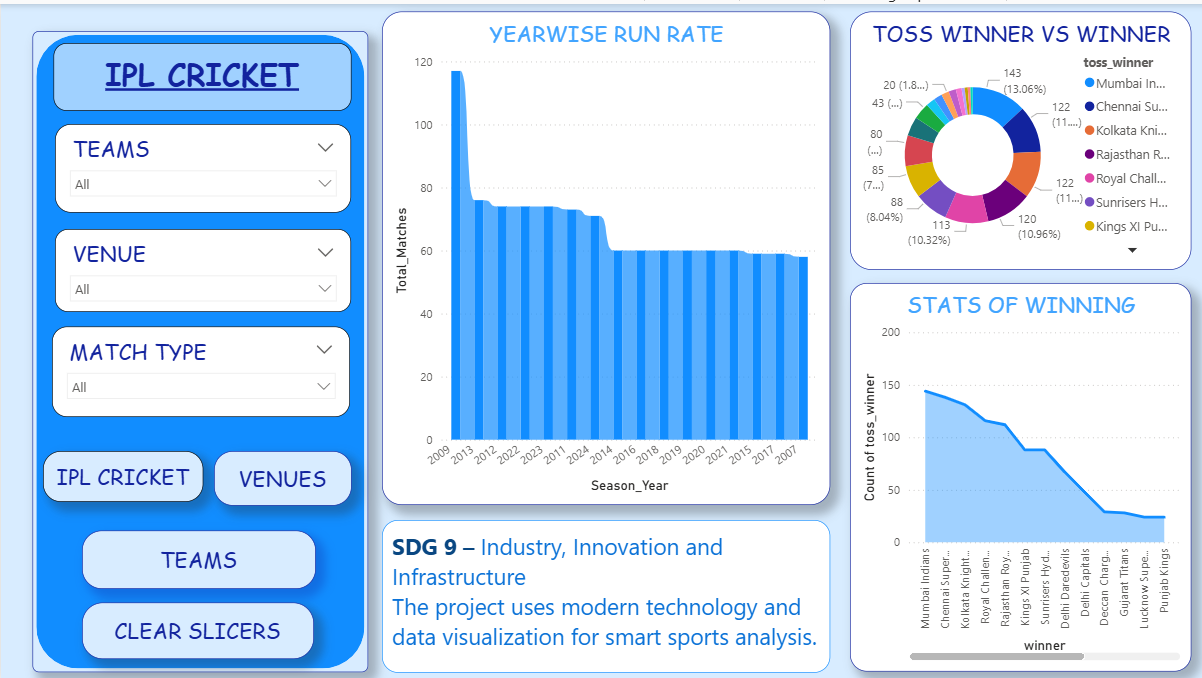

What the dashboard file says about the page in this screenshot:
{"tool":"powerbi","page":{"name":"VENUES","canvas":[1280,720],"ordinal":3},"visuals":[{"type":"shape","box":[34,28,356,680],"z":0},{"type":"textbox","box":[56,42,316,72],"z":1000},{"type":"slicer","fields":{"Values":["matches.team1"]},"box":[58,128,314,94],"z":2000},{"type":"slicer","fields":{"Values":["matches.venue"]},"box":[58,238,314,88],"z":3000},{"type":"slicer","fields":{"Values":["matches.match_type"]},"box":[54,342,316,96],"z":4000},{"type":"areaChart","title":"STATS OF WINNING","fields":{"Category":["matches.winner"],"Y":["CountNonNull(matches.toss_winner)"]},"box":[900,296,362,412],"z":5000},{"type":"ribbonChart","title":"YEARWISE RUN RATE","fields":{"Category":["matches.Season_Year"],"Y":["matches.Total_Matches"]},"box":[403.3,8.3,475,523.3],"z":6000},{"type":"actionButton","title":"IPL OVERVIEW","box":[44,474,170,54],"z":7000},{"type":"actionButton","box":[226,474,146,58],"z":8000},{"type":"actionButton","box":[86,558,248,62],"z":9000},{"type":"actionButton","box":[86,634,246,60],"z":10000},{"type":"donutChart","title":"TOSS WINNER VS WINNER","fields":{"Category":["matches.toss_winner"],"Y":["CountNonNull(matches.winner)"]},"box":[900,8,362,274],"z":11000},{"type":"textbox","box":[403.3,546.7,475,161.7],"z":11001}]}

Visuals, with their boxes in screenshot pixels (x1, y1, x2, y2), scaled from the page's 1280x720 canvas onto the 1202x678 screenshot:
shape: bbox(32, 26, 366, 667)
textbox: bbox(53, 40, 349, 107)
slicer - matches.team1: bbox(54, 121, 349, 209)
slicer - matches.venue: bbox(54, 224, 349, 307)
slicer - matches.match_type: bbox(51, 322, 347, 412)
"STATS OF WINNING" areaChart: bbox(845, 279, 1185, 667)
"YEARWISE RUN RATE" ribbonChart: bbox(379, 8, 825, 501)
"IPL OVERVIEW" actionButton: bbox(41, 446, 201, 497)
actionButton: bbox(212, 446, 349, 501)
actionButton: bbox(81, 525, 314, 584)
actionButton: bbox(81, 597, 312, 654)
"TOSS WINNER VS WINNER" donutChart: bbox(845, 8, 1185, 266)
textbox: bbox(379, 515, 825, 667)
